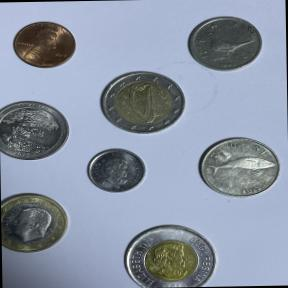coin: (118, 218, 220, 288), (94, 64, 188, 137), (192, 132, 286, 204), (0, 96, 72, 163), (1, 190, 74, 256), (7, 16, 79, 70), (84, 146, 148, 197)
